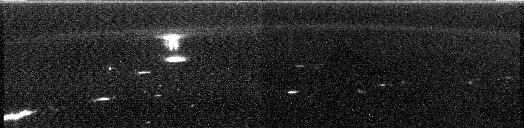positive: (155, 32, 187, 51)
